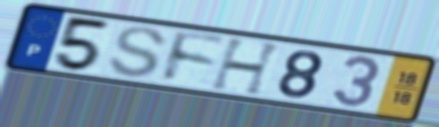3: (330, 54, 382, 110)
5: (50, 14, 120, 74)
8: (277, 49, 325, 99)
F: (160, 28, 229, 85)
H: (208, 36, 287, 98)
S: (106, 25, 170, 80)
